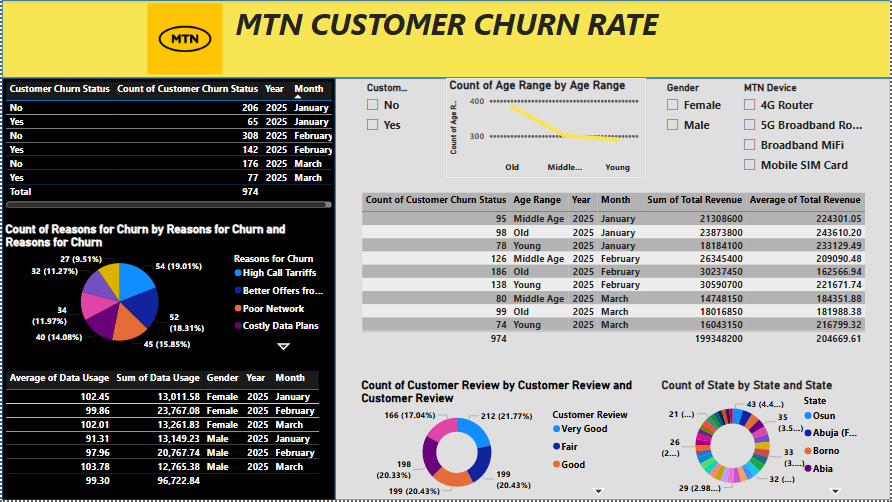

Layout of this report page (visuals, bound fields, positions):
{"tool":"powerbi","page":{"name":"Page 1","canvas":[1280,720],"ordinal":0},"visuals":[{"type":"shape","box":[0,0,1280,112],"z":0},{"type":"shape","box":[0,112,480,608],"z":1000},{"type":"shape","box":[480,112,800,608],"z":2000},{"type":"donutChart","fields":{"Y":["CountNonNull(mtn_customer_churn.State)"],"Series":["mtn_customer_churn.State"],"Category":["mtn_customer_churn.State"]},"box":[944,544,304,176],"z":3000},{"type":"slicer","fields":{"Values":["mtn_customer_churn.MTN Device"]},"box":[1056,112,192,144],"z":4000},{"type":"donutChart","fields":{"Y":["CountNonNull(mtn_customer_churn.Customer Review)"],"Series":["mtn_customer_churn.Customer Review"],"Category":["mtn_customer_churn.Customer Review"]},"box":[512,544,416,176],"z":5000},{"type":"tableEx","fields":{"Values":["Avg(mtn_customer_churn.Data Usage)","Sum(mtn_customer_churn.Data Usage)1","mtn_customer_churn.Gender","mtn_customer_churn.Date of Purchase.Variation.Date Hierarchy.Year","mtn_customer_churn.Date of Purchase.Variation.Date Hierarchy.Month"]},"box":[0,528,480,192],"z":6000},{"type":"tableEx","fields":{"Values":["mtn_customer_churn.Customer Churn Status","CountNonNull(mtn_customer_churn.Customer Churn Status)","mtn_customer_churn.Date of Purchase.Variation.Date Hierarchy.Year","mtn_customer_churn.Date of Purchase.Variation.Date Hierarchy.Month"]},"box":[0,112,480,192],"z":7000},{"type":"pieChart","fields":{"Category":["mtn_customer_churn.Reasons for Churn"],"Y":["CountNonNull(mtn_customer_churn.Reasons for Churn)"],"Series":["mtn_customer_churn.Reasons for Churn"]},"box":[0,320,480,192],"z":8000},{"type":"tableEx","fields":{"Values":["CountNonNull(mtn_customer_churn.Customer Churn Status)","mtn_customer_churn.Age Range","mtn_customer_churn.Date of Purchase.Variation.Date Hierarchy.Year","mtn_customer_churn.Date of Purchase.Variation.Date Hierarchy.Month","Sum(mtn_customer_churn.Total Revenue)","Avg(mtn_customer_churn.Total Revenue)"]},"box":[512,272,752,256],"z":9000},{"type":"slicer","fields":{"Values":["mtn_customer_churn.Gender"]},"box":[944,112,96,144],"z":10000},{"type":"slicer","fields":{"Values":["mtn_customer_churn.Customer Churn Status"]},"box":[512,112,96,144],"z":11000},{"type":"lineChart","fields":{"Category":["mtn_customer_churn.Age Range"],"Y":["CountNonNull(mtn_customer_churn.Age Range)"]},"box":[640,112,288,144],"z":12000},{"type":"textbox","box":[304,0,672,112],"z":23000},{"type":"image","box":[192,0,144,112],"z":23001}]}

Visuals, with their boxes in screenshot pixels (x1, y1, x2, y2), scaled from the page's 1280x720 canvas onto the 892x502 screenshot:
shape: pyautogui.locateOnScreen(0, 0, 891, 78)
shape: pyautogui.locateOnScreen(0, 78, 334, 501)
shape: pyautogui.locateOnScreen(334, 78, 891, 501)
donutChart - CountNonNull(mtn_customer_churn.State) x mtn_customer_churn.State: pyautogui.locateOnScreen(658, 379, 870, 501)
slicer - mtn_customer_churn.MTN Device: pyautogui.locateOnScreen(736, 78, 870, 178)
donutChart - CountNonNull(mtn_customer_churn.Customer Review) x mtn_customer_churn.Customer Review: pyautogui.locateOnScreen(357, 379, 647, 501)
tableEx - Avg(mtn_customer_churn.Data Usage) x Sum(mtn_customer_churn.Data Usage)1: pyautogui.locateOnScreen(0, 368, 334, 501)
tableEx - mtn_customer_churn.Customer Churn Status x CountNonNull(mtn_customer_churn.Customer Churn Status): pyautogui.locateOnScreen(0, 78, 334, 212)
pieChart - mtn_customer_churn.Reasons for Churn x CountNonNull(mtn_customer_churn.Reasons for Churn): pyautogui.locateOnScreen(0, 223, 334, 357)
tableEx - CountNonNull(mtn_customer_churn.Customer Churn Status) x mtn_customer_churn.Age Range: pyautogui.locateOnScreen(357, 190, 881, 368)
slicer - mtn_customer_churn.Gender: pyautogui.locateOnScreen(658, 78, 725, 178)
slicer - mtn_customer_churn.Customer Churn Status: pyautogui.locateOnScreen(357, 78, 424, 178)
lineChart - mtn_customer_churn.Age Range x CountNonNull(mtn_customer_churn.Age Range): pyautogui.locateOnScreen(446, 78, 647, 178)
textbox: pyautogui.locateOnScreen(212, 0, 680, 78)
image: pyautogui.locateOnScreen(134, 0, 234, 78)
